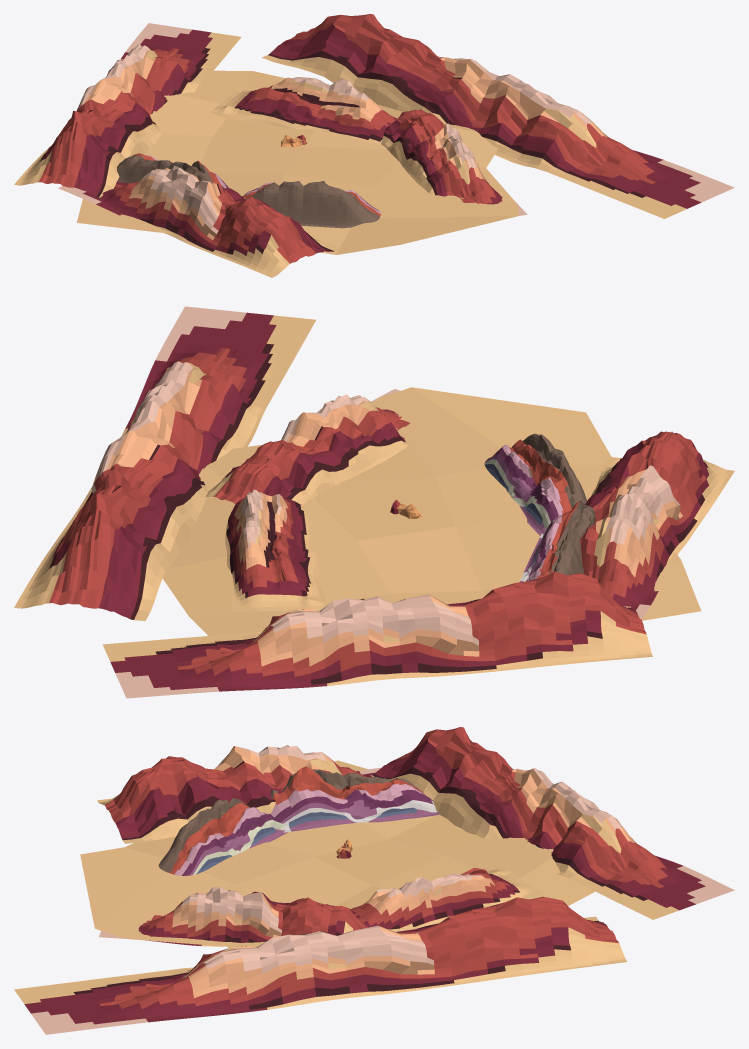
The model's file is EscenarioFinal_v2.fbx.
3 renders of one model, top to bottom at view 1: azimuth 30°, elevation 25°; view 2: azimuth 150°, elevation 25°; view 3: azimuth 270°, elevation 25°, orthographic. The views are drawn at different scales.
Parts seen in each view (by area): view 1: CerroHornocal2.003, Plane.001, CerroHornocal2.002, CerroHornocal2.001, CerroHornocal1, CerroHornocal2, CerroSiete1, CerroSiete1.001; view 2: Plane.001, CerroHornocal2.003, CerroHornocal2.002, CerroHornocal2.001, CerroHornocal2, CerroHornocal1, CerroSiete1, CerroSiete1.001; view 3: CerroHornocal2.003, Plane.001, CerroHornocal2.002, CerroHornocal2.001, CerroHornocal2, CerroSiete1.001, CerroHornocal1, CerroSiete1.
Part boxes in pixels (x1,y1,x2,y2): CerroHornocal2.003: (262, 14, 734, 218); Plane.001: (76, 70, 518, 254); CerroHornocal2.002: (14, 23, 241, 197); CerroHornocal2.001: (58, 165, 340, 277); CerroHornocal1: (211, 77, 397, 143); CerroHornocal2: (381, 109, 527, 215); CerroSiete1: (242, 180, 380, 228); CerroSiete1.001: (117, 153, 228, 188); Plane.001: (162, 387, 701, 635); CerroHornocal2.003: (14, 306, 315, 620); CerroHornocal2.002: (102, 571, 652, 698); CerroHornocal2.001: (579, 431, 734, 619); CerroHornocal2: (205, 389, 409, 504); CerroHornocal1: (225, 489, 326, 611); CerroSiete1: (484, 433, 586, 535); CerroSiete1.001: (520, 500, 595, 582); CerroHornocal2.003: (14, 896, 627, 1034); Plane.001: (80, 760, 594, 947); CerroHornocal2.002: (370, 727, 734, 919); CerroHornocal2.001: (97, 745, 381, 843); CerroHornocal2: (99, 887, 367, 946); CerroSiete1.001: (270, 766, 440, 832); CerroHornocal1: (350, 867, 543, 929); CerroSiete1: (158, 798, 288, 875).
Size of the model in its own units: 184664 by 21237 by 196186.
